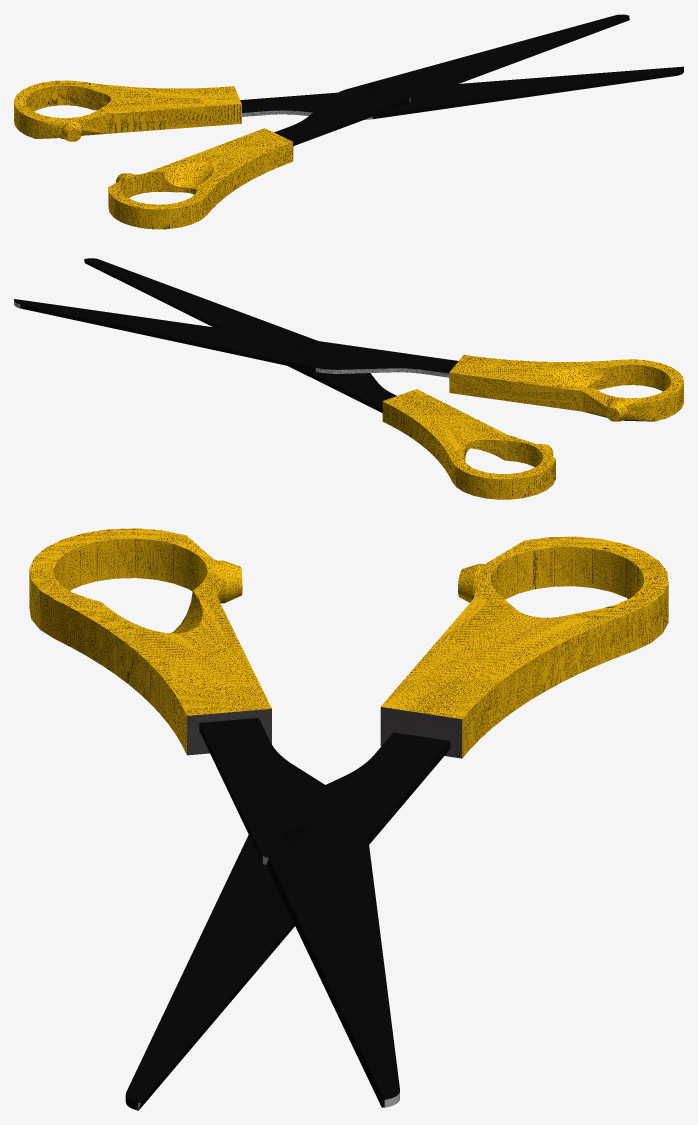
File: scissors_03_origin_gt_1.dae
The picture shows the model from 3 angles, top to bottom: view 1: azimuth 30°, elevation 25°; view 2: azimuth 150°, elevation 25°; view 3: azimuth 270°, elevation 25°; orthographic projection. The views are drawn at different scales.
Parts seen in each view (by area): view 1: scissors (×4); view 2: scissors (×5); view 3: scissors (×7).
Boxes of the visible parts, x1,y1,x2,y2 form: scissors (×4): [14, 14, 683, 229]; scissors (×5): [14, 258, 683, 499]; scissors (×7): [29, 528, 668, 1110].
Size of the model in its own units: 10.98 by 5.26 by 0.4137.
4 materials, 2 textured.
